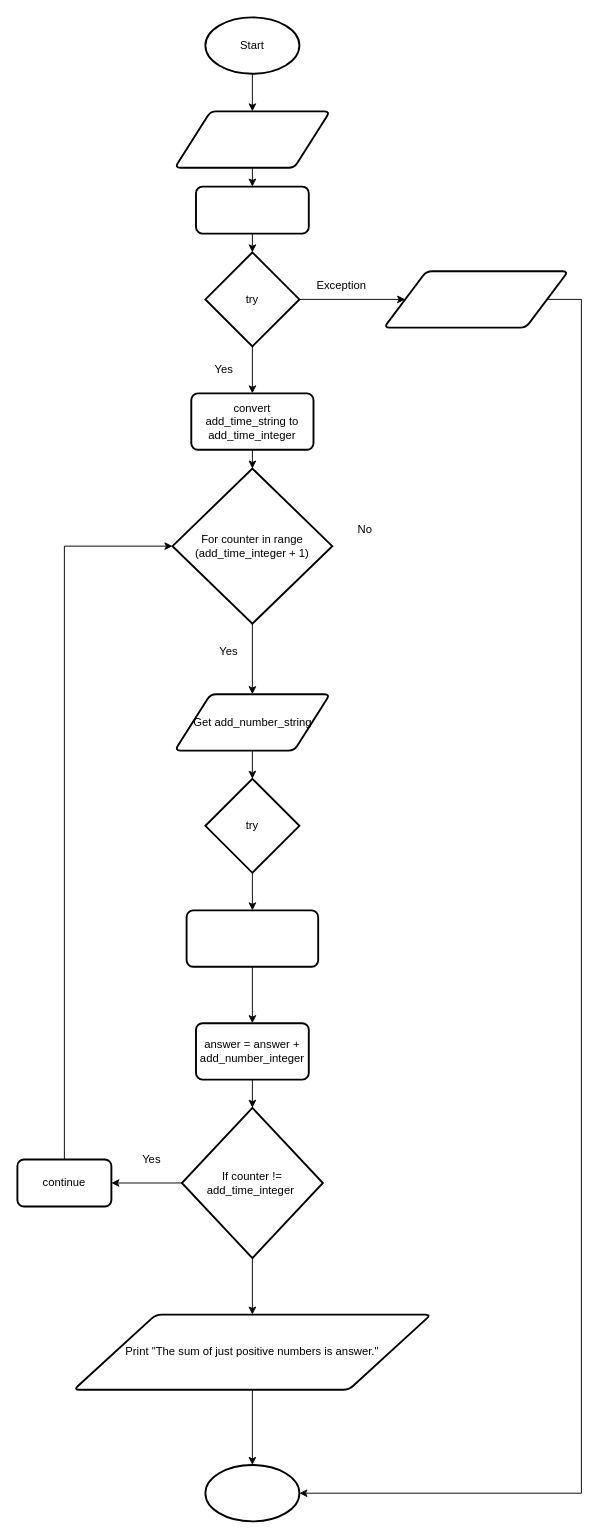
This 605x1538 diagram has some shape labels left out. The shapes that lost their labels are listed below. From the top down, each one's box as (x1, y1, x2, y2) in pixels, then its label:
(173, 110, 330, 168): Get add_time_string
(195, 185, 309, 234): answer = 0
(383, 270, 569, 328): Print "Invalid number!"
(185, 909, 319, 967): convert add_number_string to add_number_integer
(204, 1464, 300, 1522): Stop
